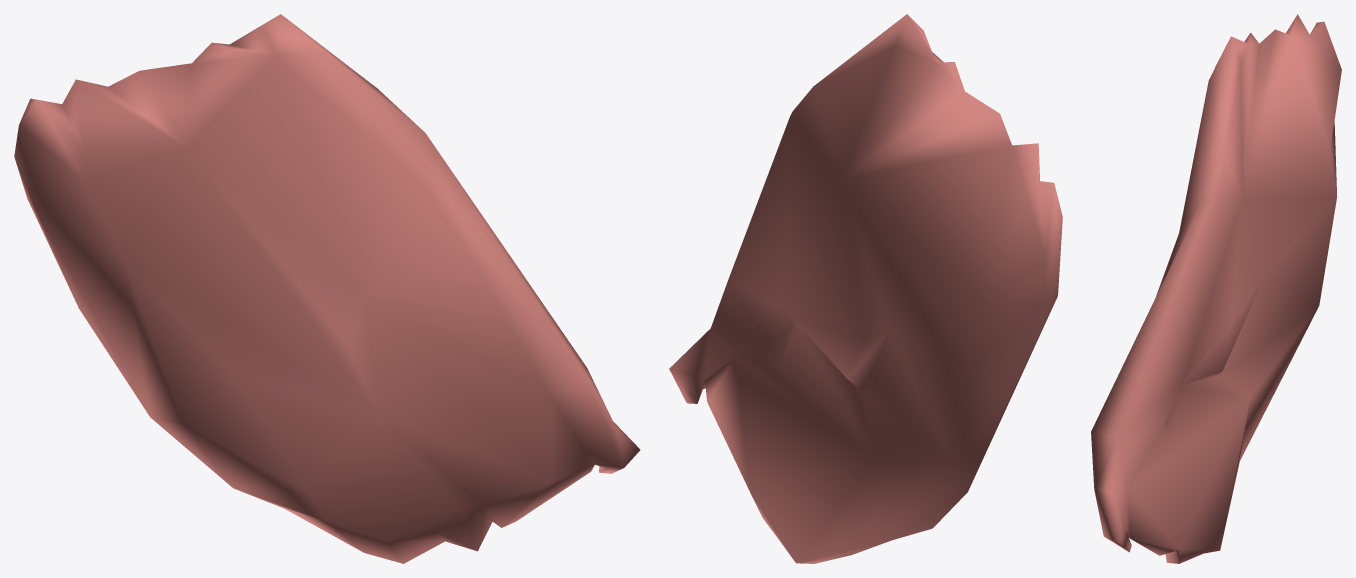
3 renders of one model, left to right at view 1: azimuth 30°, elevation 25°; view 2: azimuth 150°, elevation 25°; view 3: azimuth 270°, elevation 25°, orthographic. The views are drawn at different scales.
Parts seen in each view (by area): view 1: ZA_f706396f469f04fb; view 2: ZA_f706396f469f04fb; view 3: ZA_f706396f469f04fb.
Part boxes in pixels (left/top/right/bottom): ZA_f706396f469f04fb: left=14, top=14, right=640, bottom=563; ZA_f706396f469f04fb: left=669, top=14, right=1062, bottom=563; ZA_f706396f469f04fb: left=1091, top=14, right=1341, bottom=563.
Bounding box in the file's own units: 0.0137 × 0.0148 × 0.00708.
